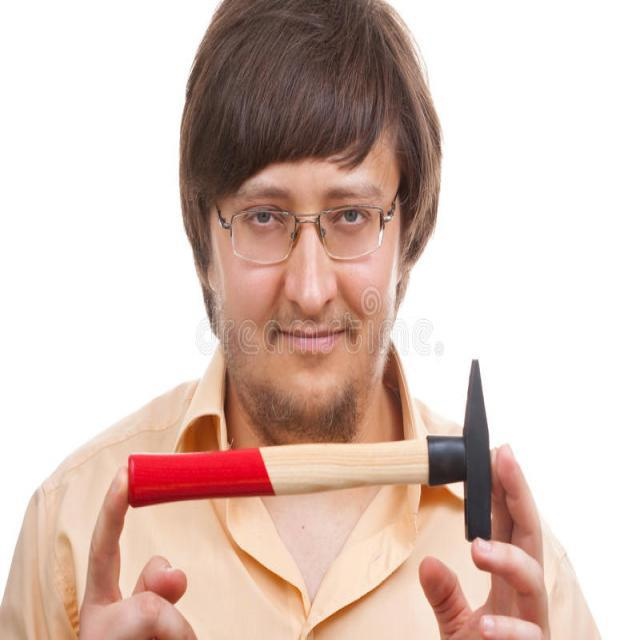hammer: (124, 353, 499, 547)
